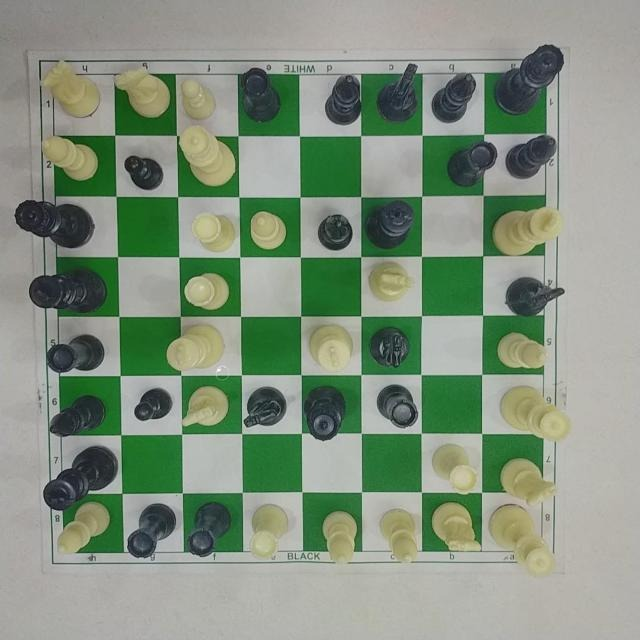black-bishop: (504, 125, 566, 180), (48, 388, 106, 442), (431, 63, 477, 124), (323, 72, 363, 127), (315, 210, 354, 251)
black-king: (41, 441, 119, 515), (23, 264, 110, 314), (362, 197, 415, 250)
black-knight: (373, 57, 425, 127), (241, 380, 287, 434), (501, 275, 562, 313), (366, 324, 414, 370)
black-pawn: (125, 149, 165, 194), (135, 382, 175, 426)
black-queen: (488, 38, 572, 119), (8, 196, 105, 252), (300, 381, 346, 442)
black-rook: (125, 498, 181, 560), (237, 61, 286, 125), (48, 324, 106, 376), (188, 496, 236, 556), (447, 137, 498, 192), (376, 382, 422, 432)
white-bishop: (50, 499, 116, 557), (39, 132, 103, 186), (494, 320, 555, 369), (375, 505, 418, 569), (319, 504, 361, 566), (248, 206, 284, 250)
white-king: (490, 201, 565, 259), (165, 319, 227, 371), (306, 321, 352, 373)
white-knight: (38, 59, 102, 123), (114, 63, 172, 121), (429, 497, 481, 559), (500, 454, 558, 507), (177, 382, 231, 434), (366, 261, 415, 306)
white-pawn: (178, 74, 220, 117)
white-queen: (486, 502, 558, 586), (497, 380, 574, 446), (173, 119, 240, 190)
white-rook: (188, 203, 240, 258), (429, 440, 479, 496), (250, 497, 292, 563), (181, 266, 231, 311)
